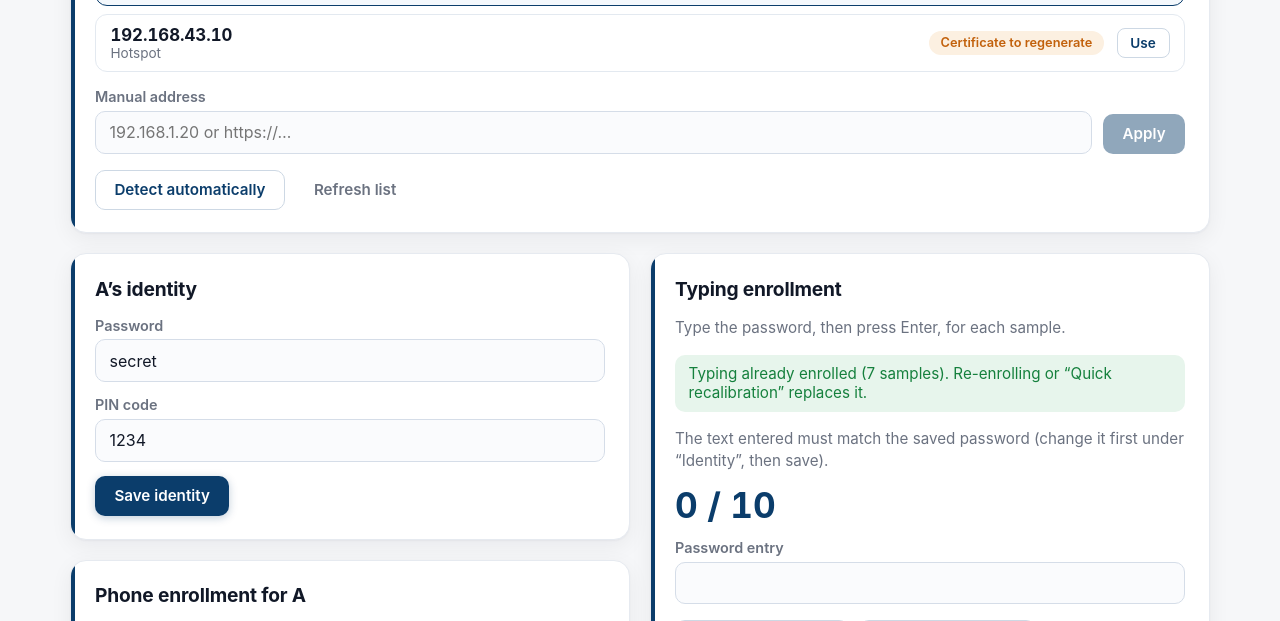
Test case: Config › changer le mot de passe apres enrolement retire « Frappe deja enrolee »
(page scrolled)
Check: the text "Typing already enrolled" is shown, box [689,364,1112,402]
Replace the text in the field labelled "Password" with "nouveau" at [350, 360], box [95,339,605,382]
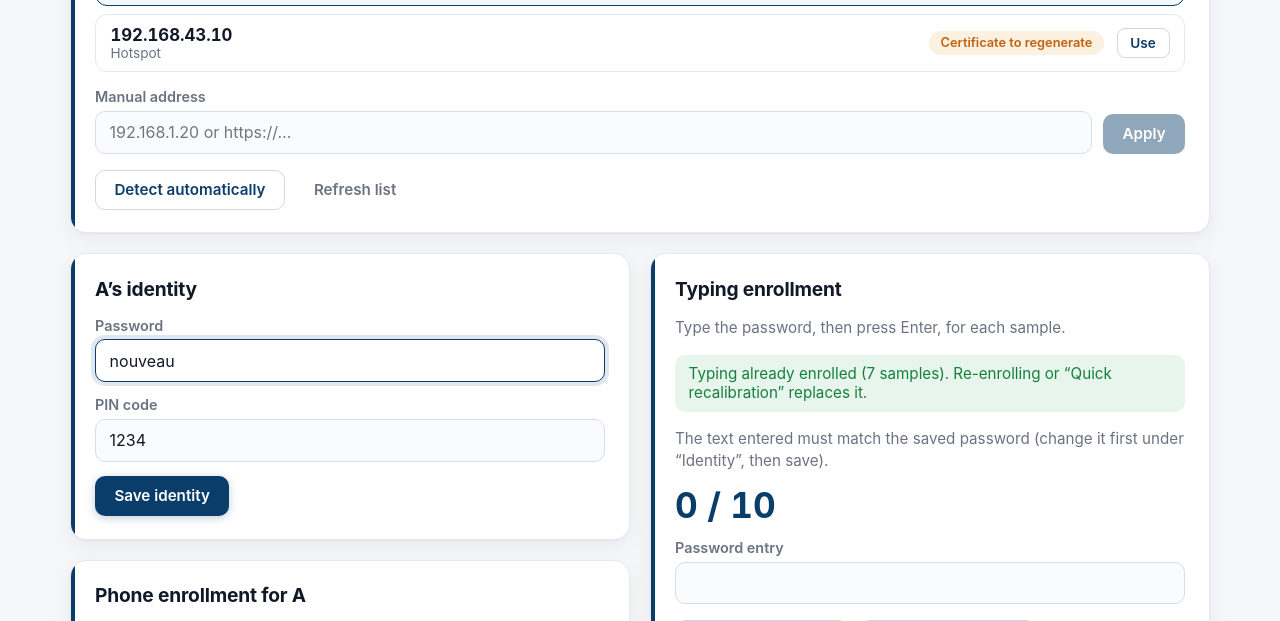
Click the button "Save identity".
click(162, 496)  # box [95,476,229,516]
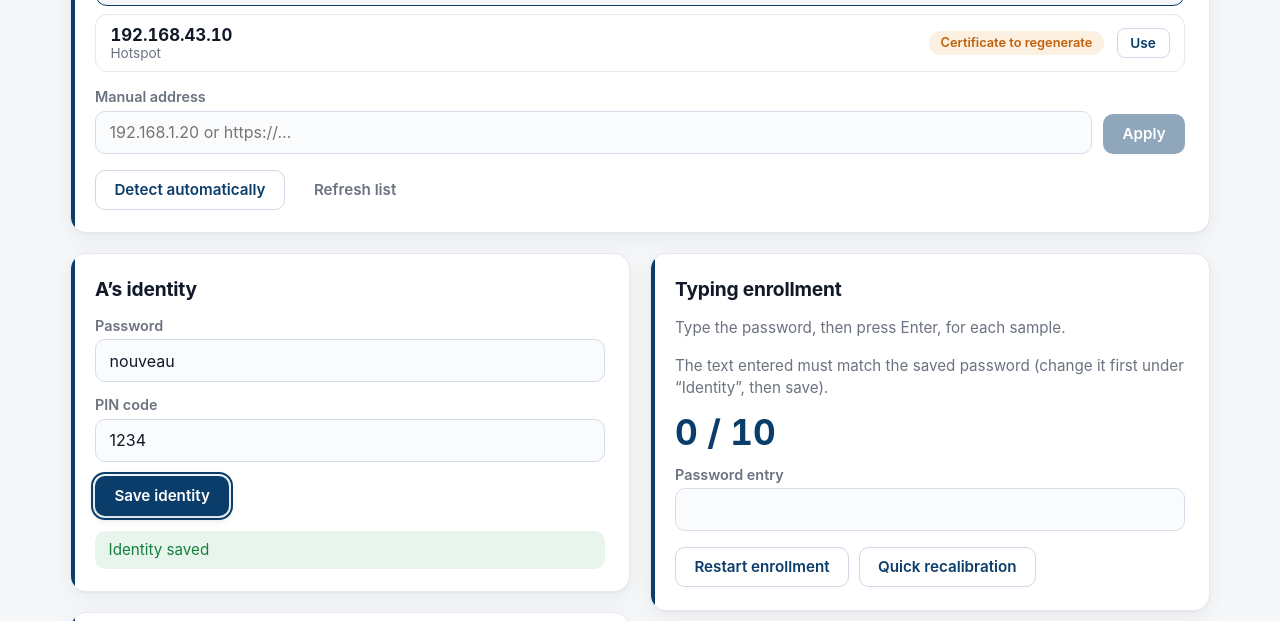
Check: the text "Identity saved" is shown, box [95,530,605,569]
Check: the text "already enrolled" is gone
